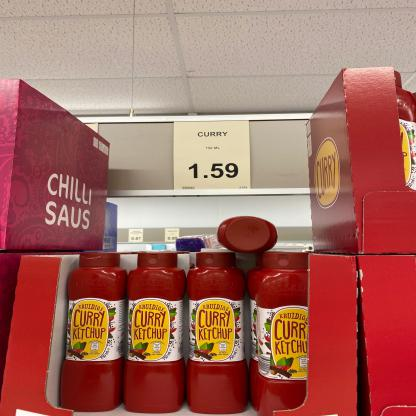prtg: (175, 121, 252, 191)
